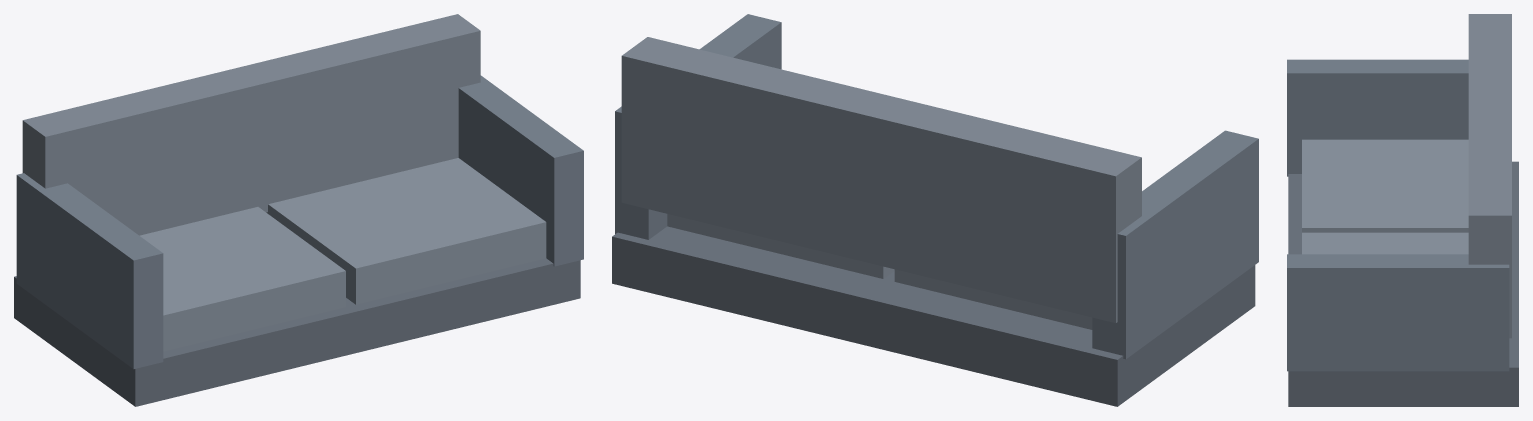
Rendered from loungeSofa.glb.
The picture shows the model from 3 angles, left to right: view 1: azimuth 30°, elevation 25°; view 2: azimuth 150°, elevation 25°; view 3: azimuth 270°, elevation 25°; orthographic projection. The views are drawn at different scales.
Size of the model in its own units: 1.82 by 0.77 by 0.855.
